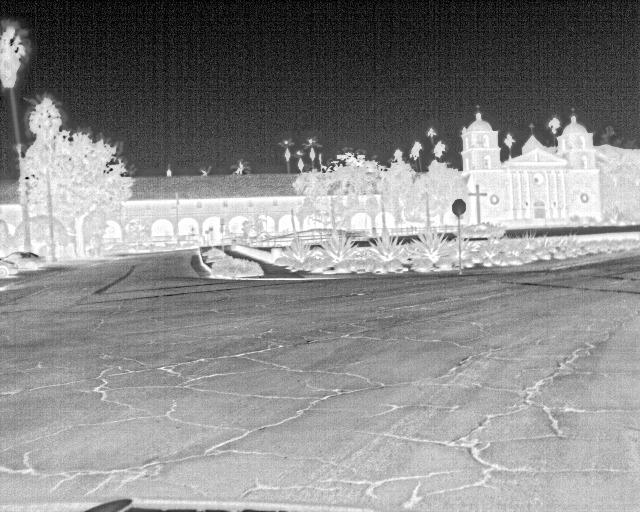car: (2, 250, 44, 268), (0, 257, 18, 276)
